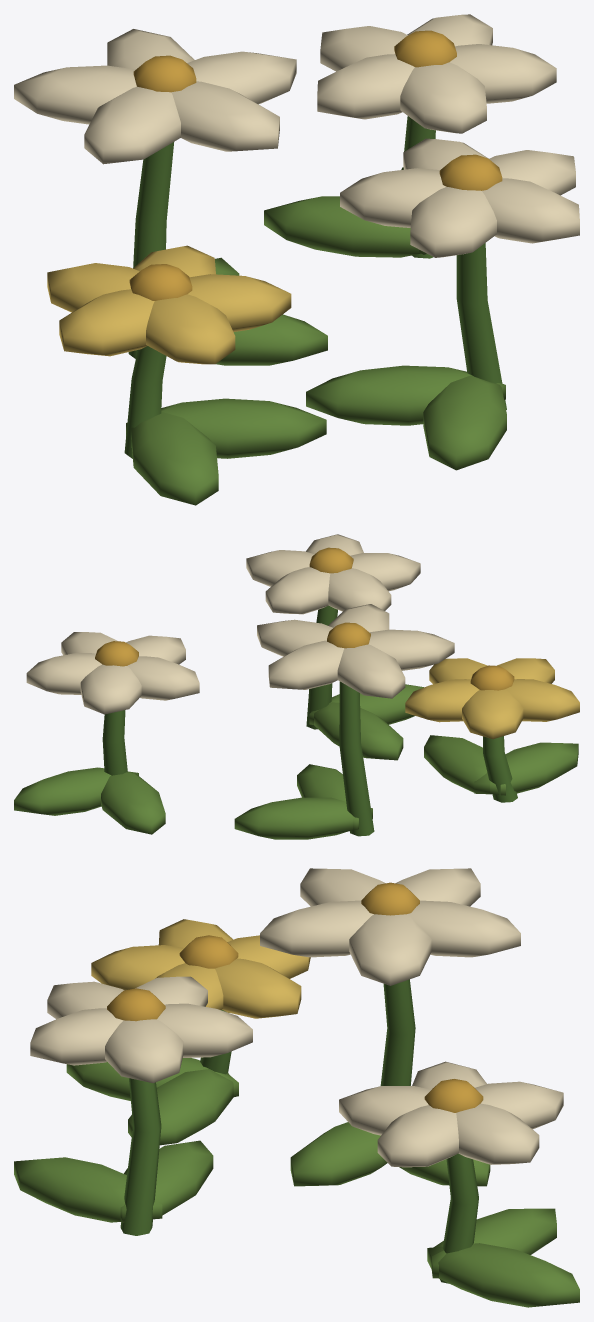
File: flowers-cream.glb
3 renders of one model, top to bottom at view 1: azimuth 30°, elevation 25°; view 2: azimuth 150°, elevation 25°; view 3: azimuth 270°, elevation 25°, orthographic. The views are drawn at different scales.
Parts seen in each view (by area): view 1: Wildflower basal leaf.004, Wildflower basal leaf.007, Wildflower basal leaf.006, Wildflower basal leaf.005, Wildflower basal leaf.003, Rounded flower petal.004, Rounded flower petal.003, Rounded flower petal.002, Rounded flower petal.017, Rounded flower petal.008, Rounded flower petal.012, Rounded flower petal.016 (+22 smaller); view 2: Wildflower basal leaf.001, Wildflower basal leaf.002, Wildflower short stem, Wildflower basal leaf.006, Wildflower basal leaf.003, Rounded flower petal.001, Rounded flower petal.002, Wildflower basal leaf.007, Wildflower basal leaf.004, Rounded flower petal.003, Rounded flower petal.015, Rounded flower petal.006 (+24 smaller); view 3: Wildflower basal leaf.002, Wildflower basal leaf.005, Rounded flower petal, Rounded flower petal.004, Wildflower short stem.002, Rounded flower petal.001, Wildflower basal leaf, Wildflower basal leaf.007, Rounded flower petal.009, Rounded flower petal.014, Rounded flower petal.005, Rounded flower petal.019 (+23 smaller).
Boxes of the visible parts, <box> form: Wildflower basal leaf.004: <box>306,365,505,425</box>; Wildflower basal leaf.007: <box>126,398,326,458</box>; Wildflower basal leaf.006: <box>131,412,218,505</box>; Wildflower basal leaf.005: <box>423,375,506,470</box>; Wildflower basal leaf.003: <box>264,196,420,257</box>; Rounded flower petal.004: <box>171,81,279,151</box>; Rounded flower petal.003: <box>84,86,180,164</box>; Rounded flower petal.002: <box>14,65,136,124</box>; Rounded flower petal.017: <box>146,294,235,364</box>; Rounded flower petal.008: <box>400,62,486,133</box>; Rounded flower petal.012: <box>410,187,496,257</box>; Rounded flower petal.016: <box>59,289,154,356</box>; Wildflower basal leaf.001: <box>234,797,372,839</box>; Wildflower basal leaf.002: <box>14,767,138,815</box>; Wildflower short stem: <box>339,681,374,836</box>; Wildflower basal leaf.006: <box>474,742,578,794</box>; Wildflower basal leaf.003: <box>101,772,165,834</box>; Rounded flower petal.001: <box>268,640,344,689</box>; Rounded flower petal.002: <box>337,644,405,698</box>; Wildflower basal leaf.007: <box>424,735,505,795</box>; Wildflower basal leaf.004: <box>314,702,403,760</box>; Rounded flower petal.003: <box>369,629,454,670</box>; Rounded flower petal.015: <box>462,689,523,739</box>; Rounded flower petal.006: <box>80,664,141,714</box>; Wildflower basal leaf.002: <box>427,1243,579,1307</box>; Wildflower basal leaf.005: <box>14,1157,162,1222</box>; Rounded flower petal: <box>349,914,431,985</box>; Rounded flower petal.004: <box>260,900,373,957</box>; Wildflower short stem.002: <box>120,1078,161,1235</box>; Rounded flower petal.001: <box>407,900,520,957</box>; Wildflower basal leaf: <box>290,1122,387,1186</box>; Wildflower basal leaf.007: <box>128,1069,233,1145</box>; Rounded flower petal.009: <box>377,1105,458,1167</box>; Rounded flower petal.014: <box>105,1019,183,1083</box>; Rounded flower petal.005: <box>456,1103,539,1164</box>; Rounded flower petal.019: <box>215,958,301,1018</box>.
Size of the model in its own units: 0.6982 by 0.324 by 0.6236.
